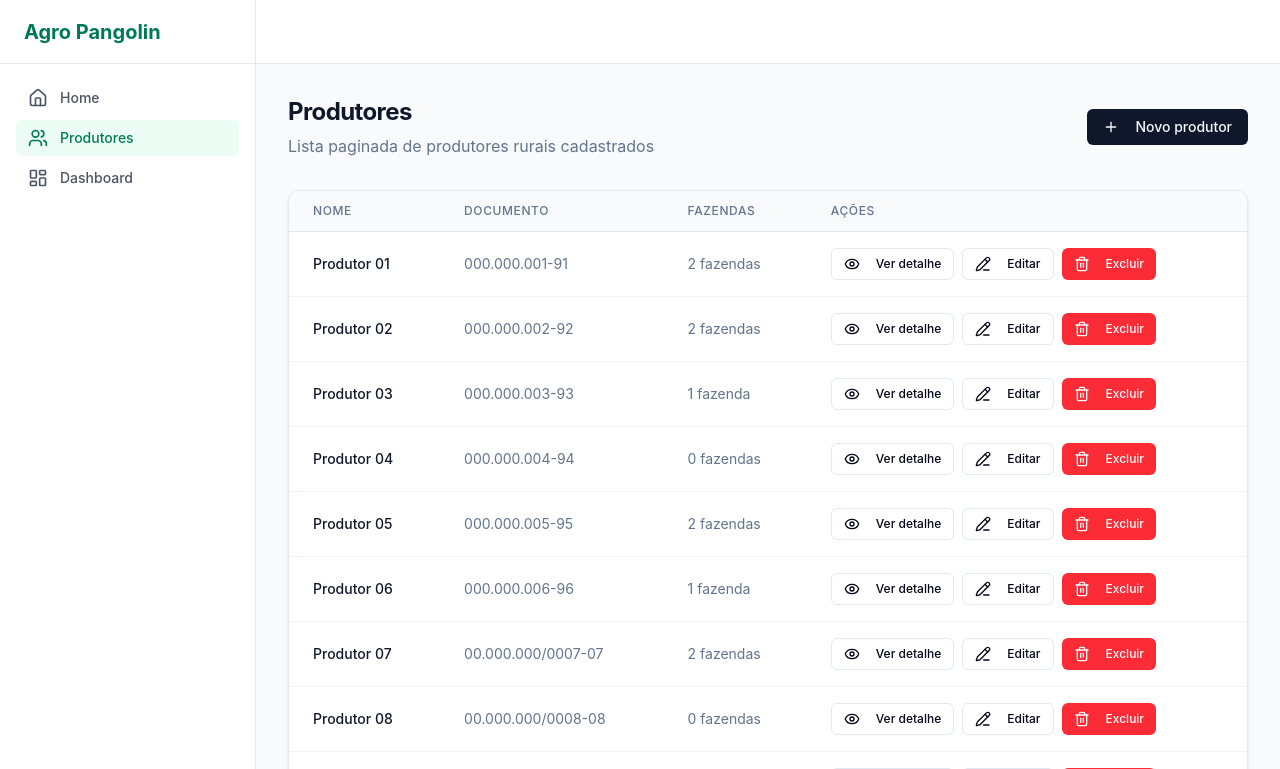
Test: Página de listagem de produtores › permite navegar para edição a partir da linha
Expected: the text "Produtor 01" is shown, x1=289 y1=232 x2=440 y2=296
Click the link with aria-label "Editar Produtor 01": (1008, 264) x1=962 y1=248 x2=1054 y2=280
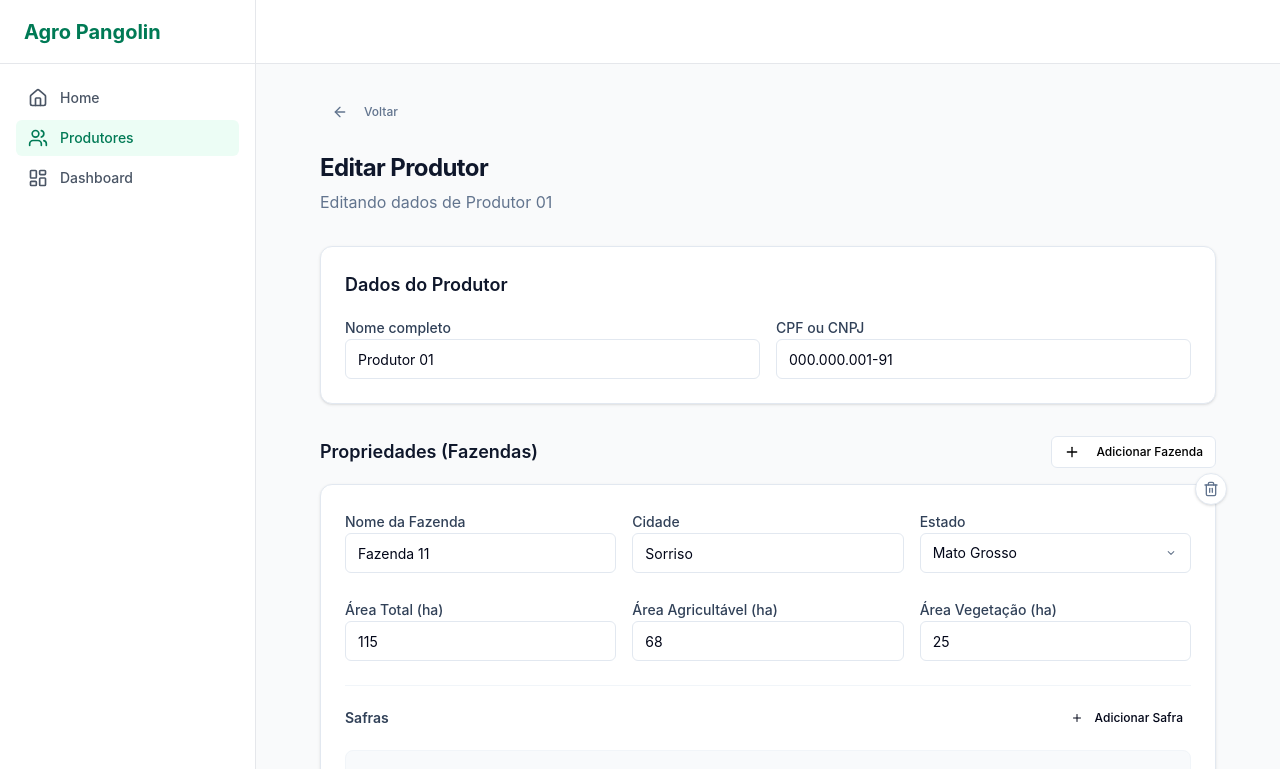
Expected: the heading "Editar Produtor" is shown, x1=320 y1=153 x2=488 y2=182
